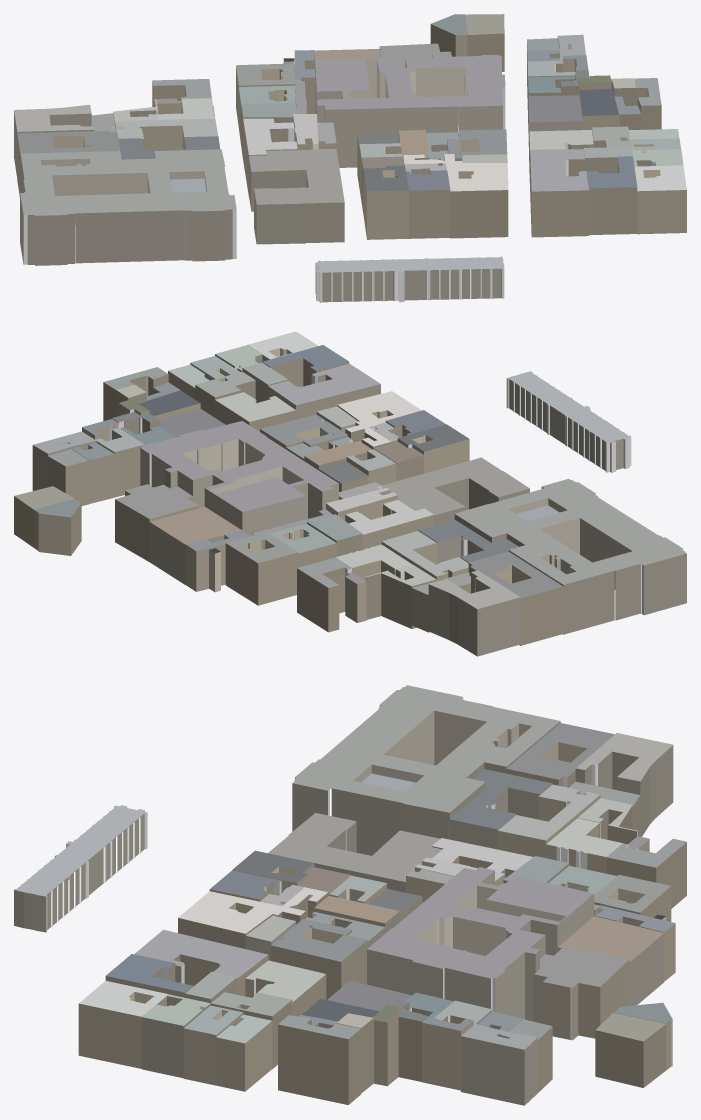
3 renders of one model, top to bottom at view 1: azimuth 30°, elevation 25°; view 2: azimuth 150°, elevation 25°; view 3: azimuth 270°, elevation 25°, orthographic. The views are drawn at different scales.
Visible parts, largest first — view 1: tuile; view 2: tuile; view 3: tuile.
Part boxes in pixels (<box>): tuile: <box>14,14,686,302</box>; tuile: <box>14,331,686,656</box>; tuile: <box>14,685,686,1105</box>.
Size of the model in its own units: 310 by 30.43 by 245.
